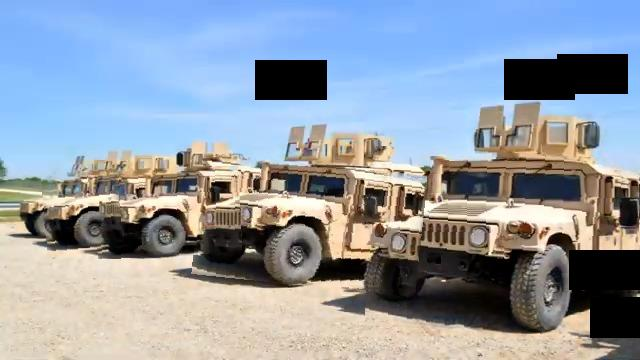MIL_HMMWV: (366, 149, 640, 335), (194, 159, 425, 293), (94, 167, 241, 258), (43, 169, 122, 251)
